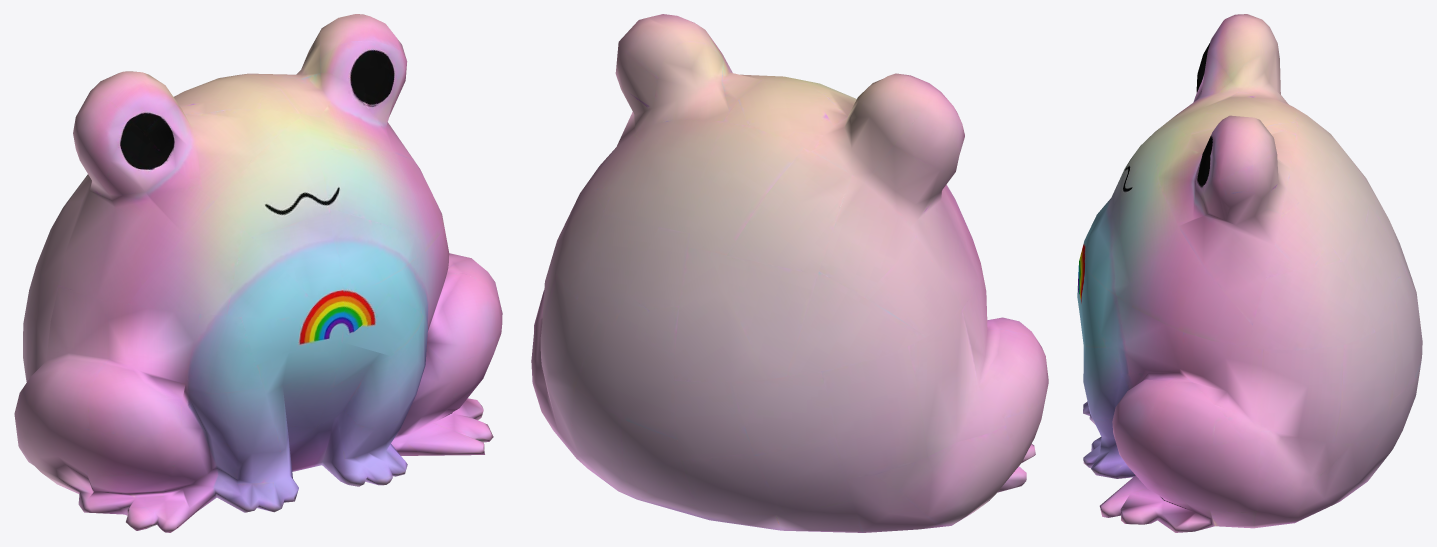
The model's file is arcenciel.glb.
3 renders of one model, left to right at view 1: azimuth 30°, elevation 25°; view 2: azimuth 150°, elevation 25°; view 3: azimuth 270°, elevation 25°, orthographic. The views are drawn at different scales.
Parts seen in each view (by area): view 1: mesh_node; view 2: mesh_node; view 3: mesh_node.
Part boxes in pixels (bbox=[...]): mesh_node: bbox=[14, 14, 502, 532]; mesh_node: bbox=[531, 14, 1048, 532]; mesh_node: bbox=[1077, 14, 1422, 532].
Size of the model in its own units: 1.9 by 1.57 by 1.32.
1 material, 1 textured.
